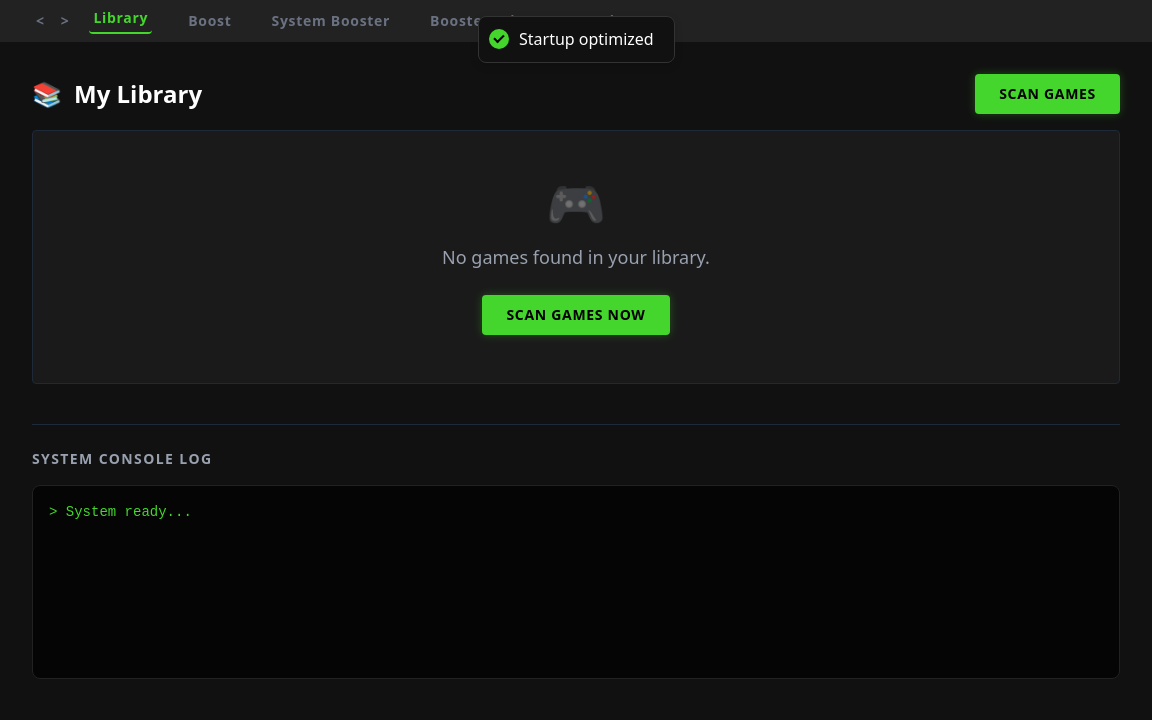
App › handleOptimizeStartup › handles failed optimization (window.eel)
Click the tab "System Booster" at coordinates (331, 21), box [268,11,394,31]
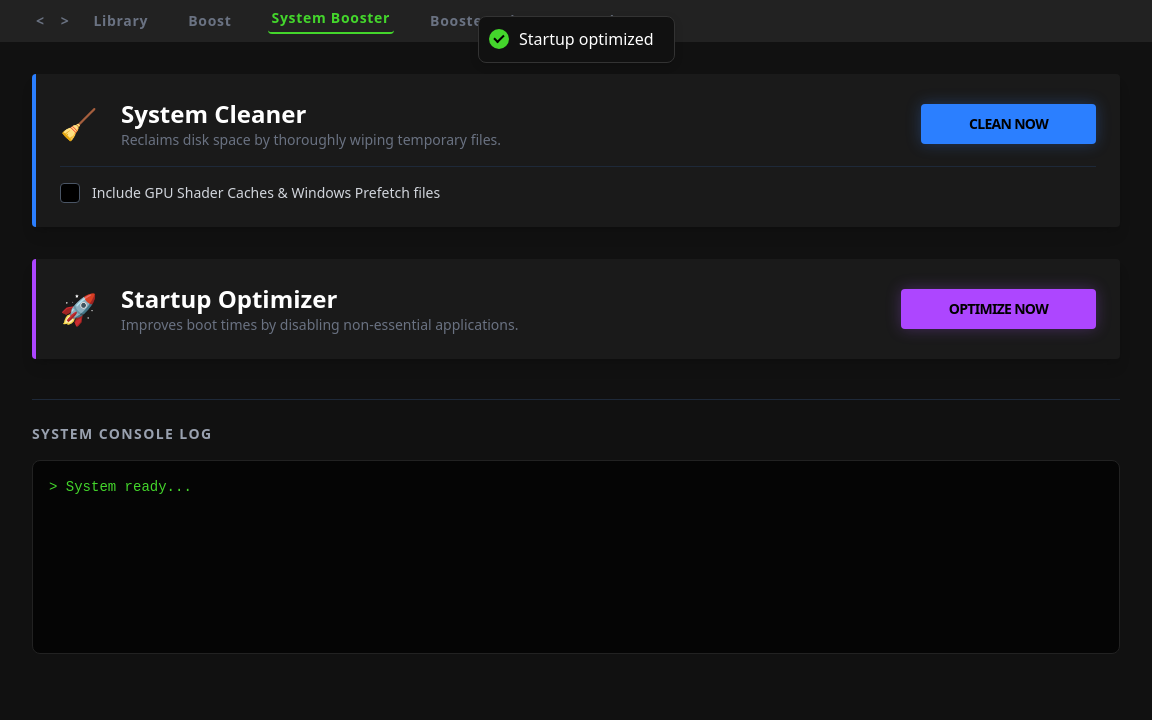
Click the button "Optimize Now" at coordinates (998, 309), box [901,289,1096,329]
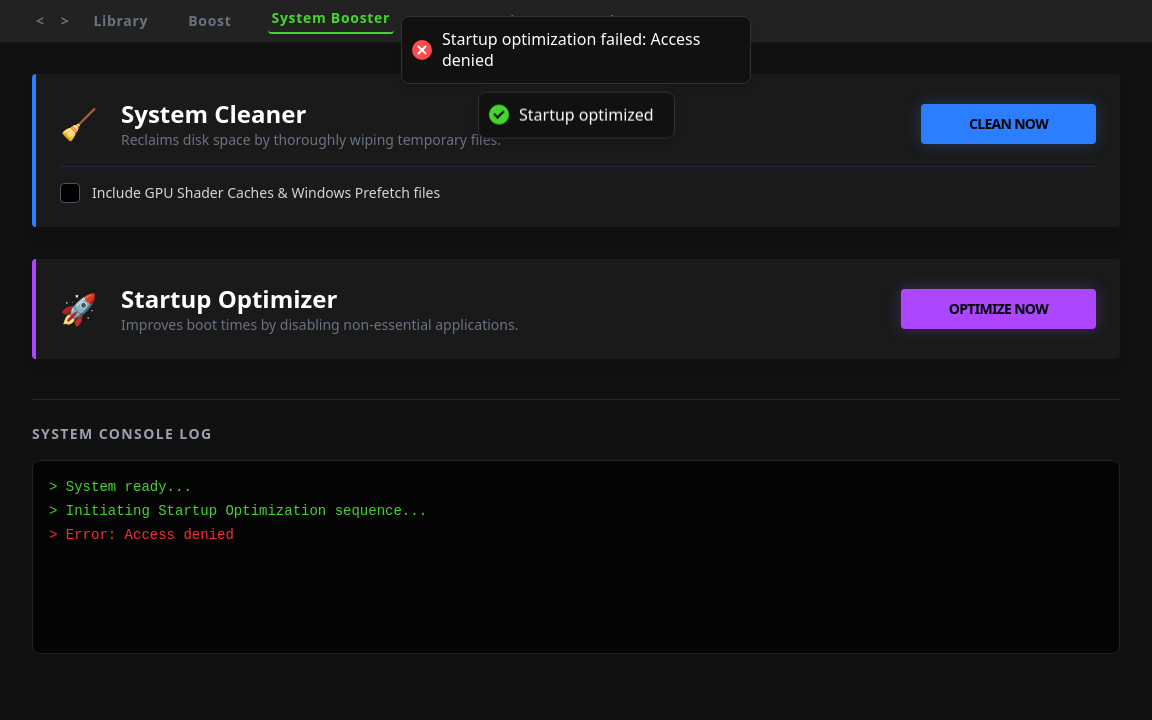
expect the text "> Error: Access denied" is shown: met, box [49,527,234,543]
